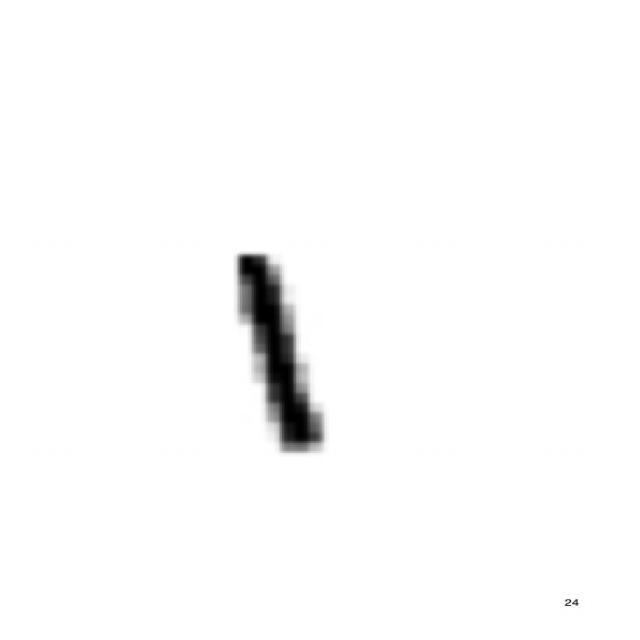1 -one-: (210, 236, 344, 468)
